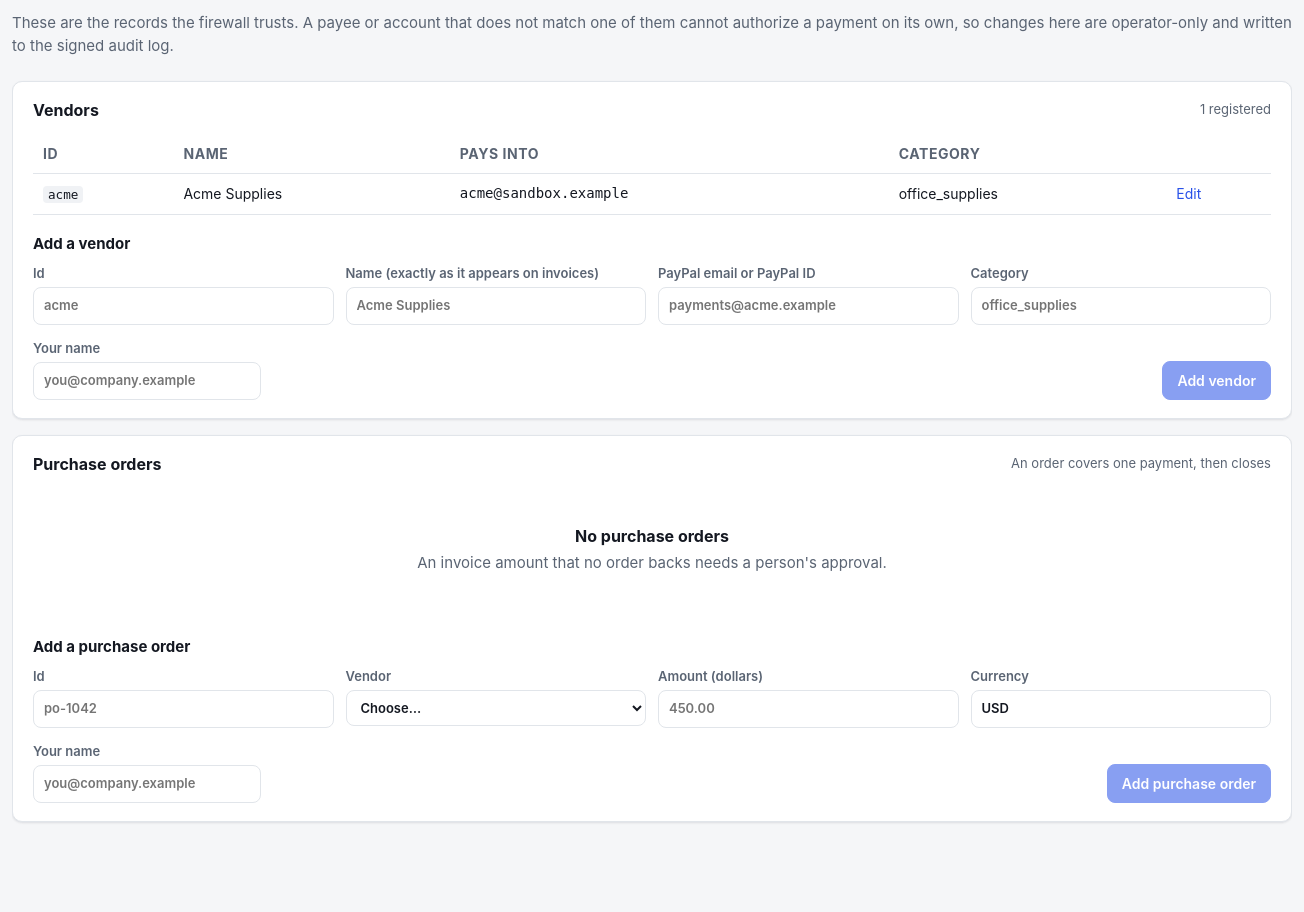
registry: changing where a vendor is paid is a deliberate step › adding a brand-new vendor needs no warning
Expected: the cell "Acme Supplies" is shown, [173, 174, 450, 214]
Type "beta" into the field with placeholder "acme" below "Name (exactly as it appears on invoices)" at (183, 306), box [33, 287, 334, 325]
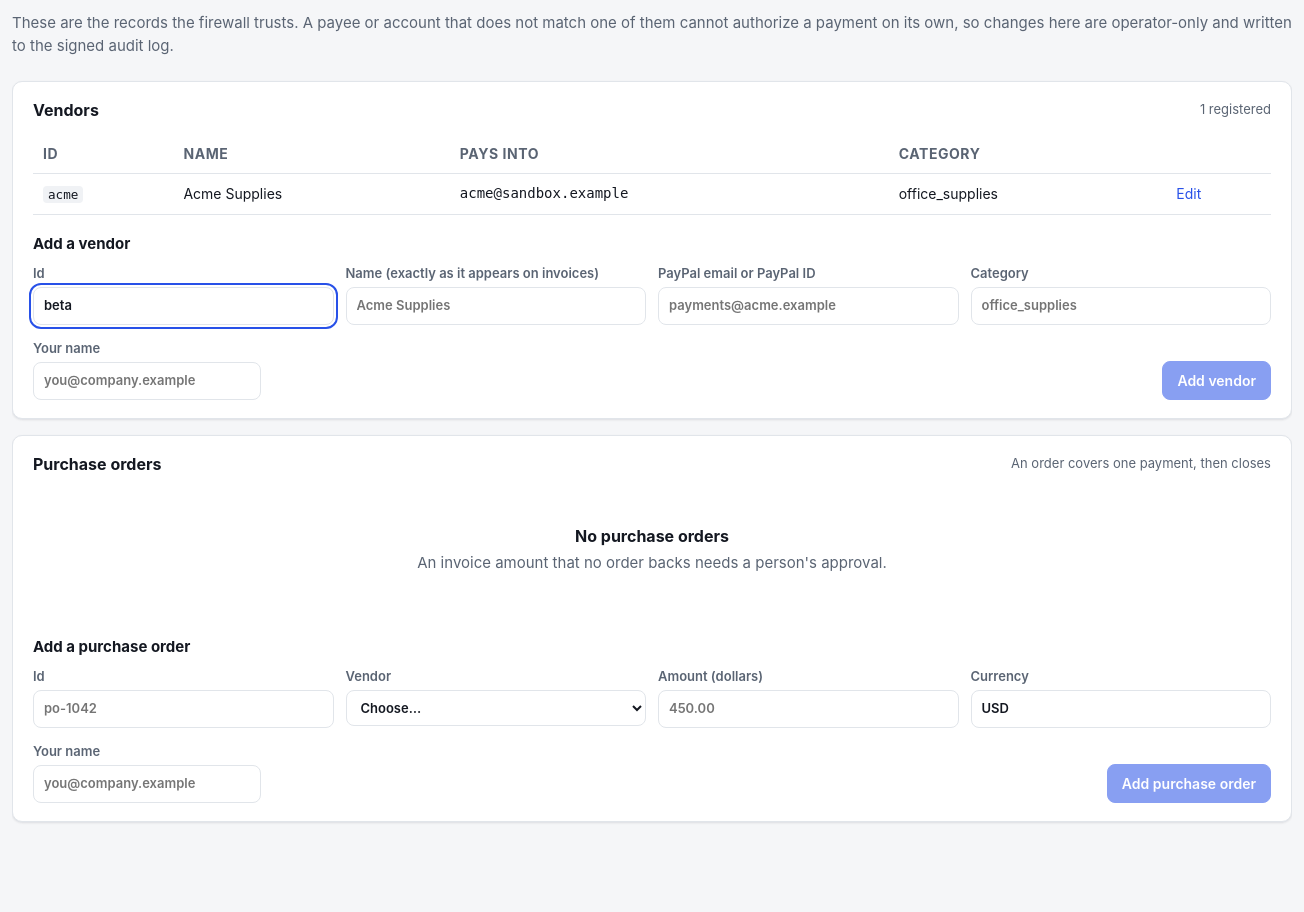
Type "Beta" into the field with placeholder "Acme Supplies" at (496, 306), box [346, 287, 646, 325]
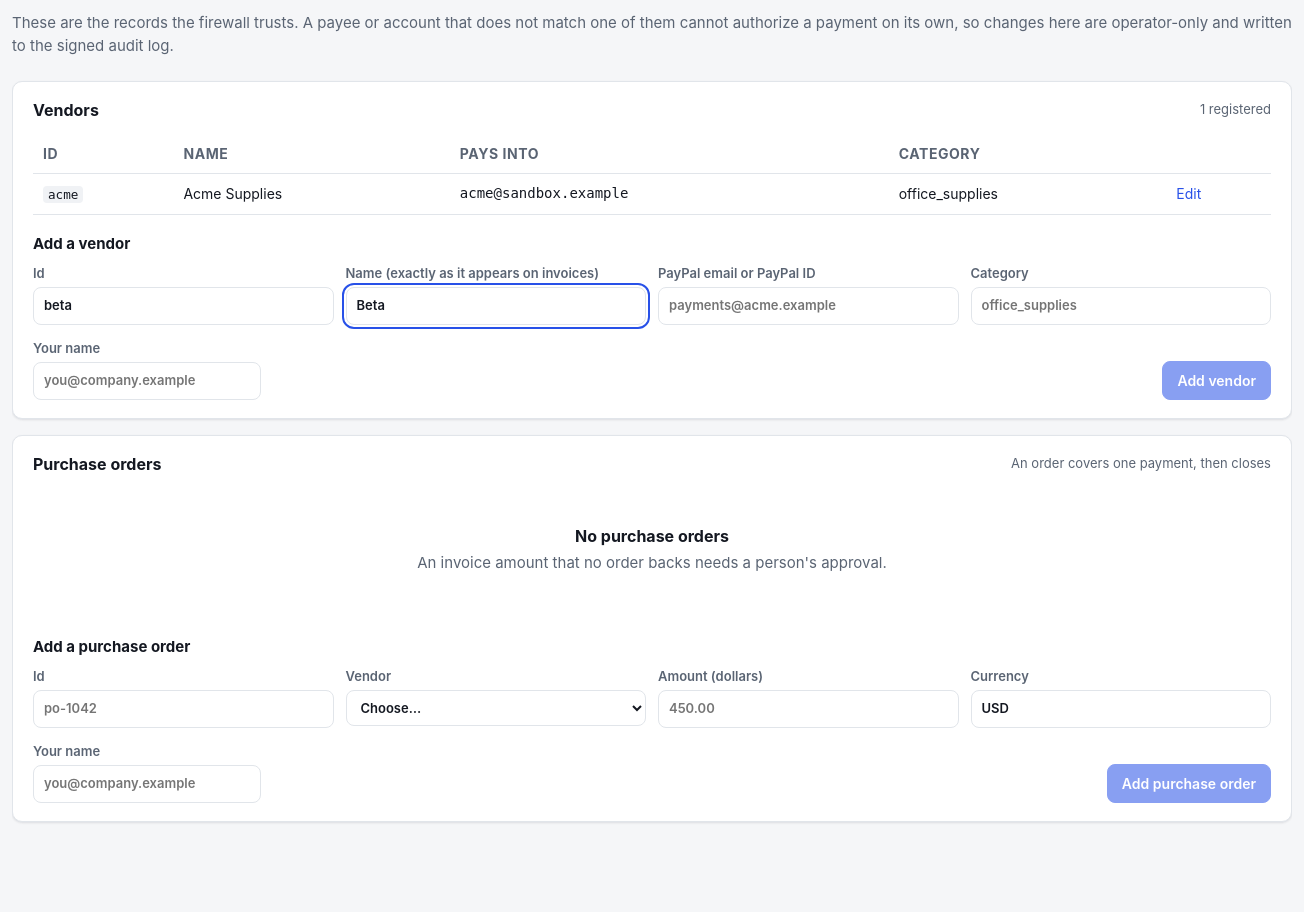
Type "b@x.example" into the field with placeholder "payments@acme.example" at (808, 306), box [658, 287, 958, 325]
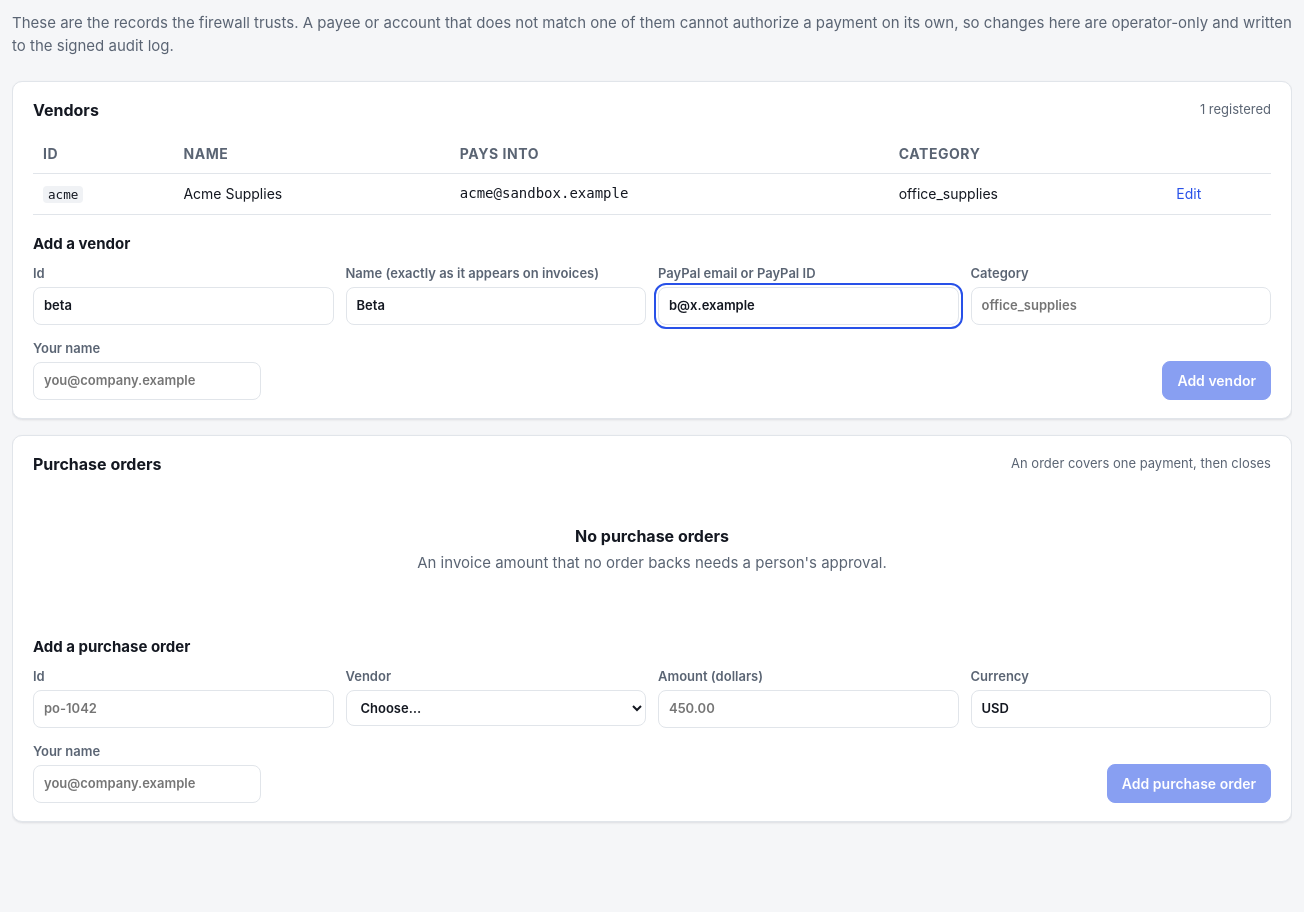
Type "software" into the field with placeholder "office_supplies" at (1121, 306), box [970, 287, 1271, 325]
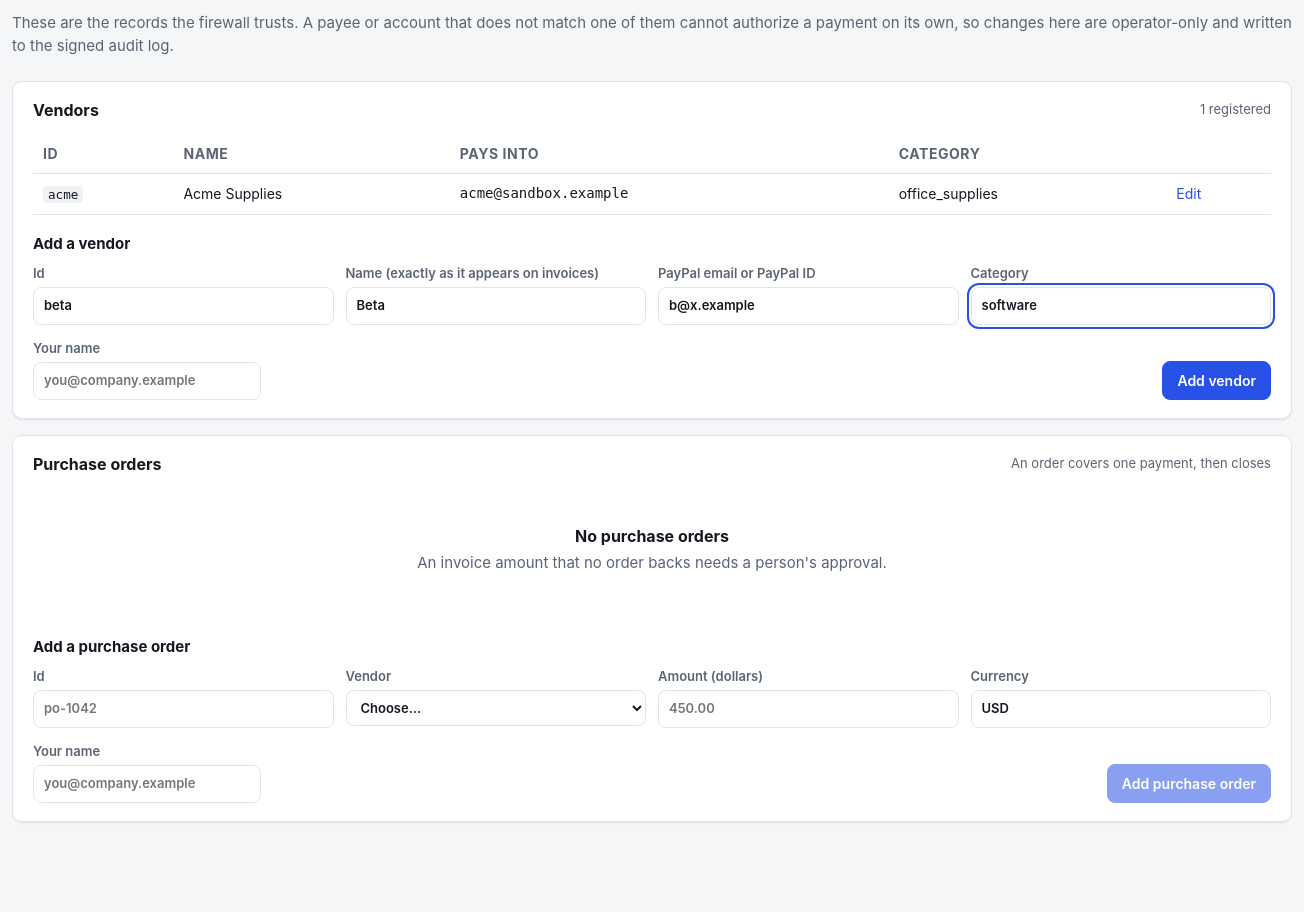
Type "dana" into the field with placeholder "you@company.example" below "Name (exactly as it appears on invoices)" at (147, 381), box [33, 362, 261, 400]
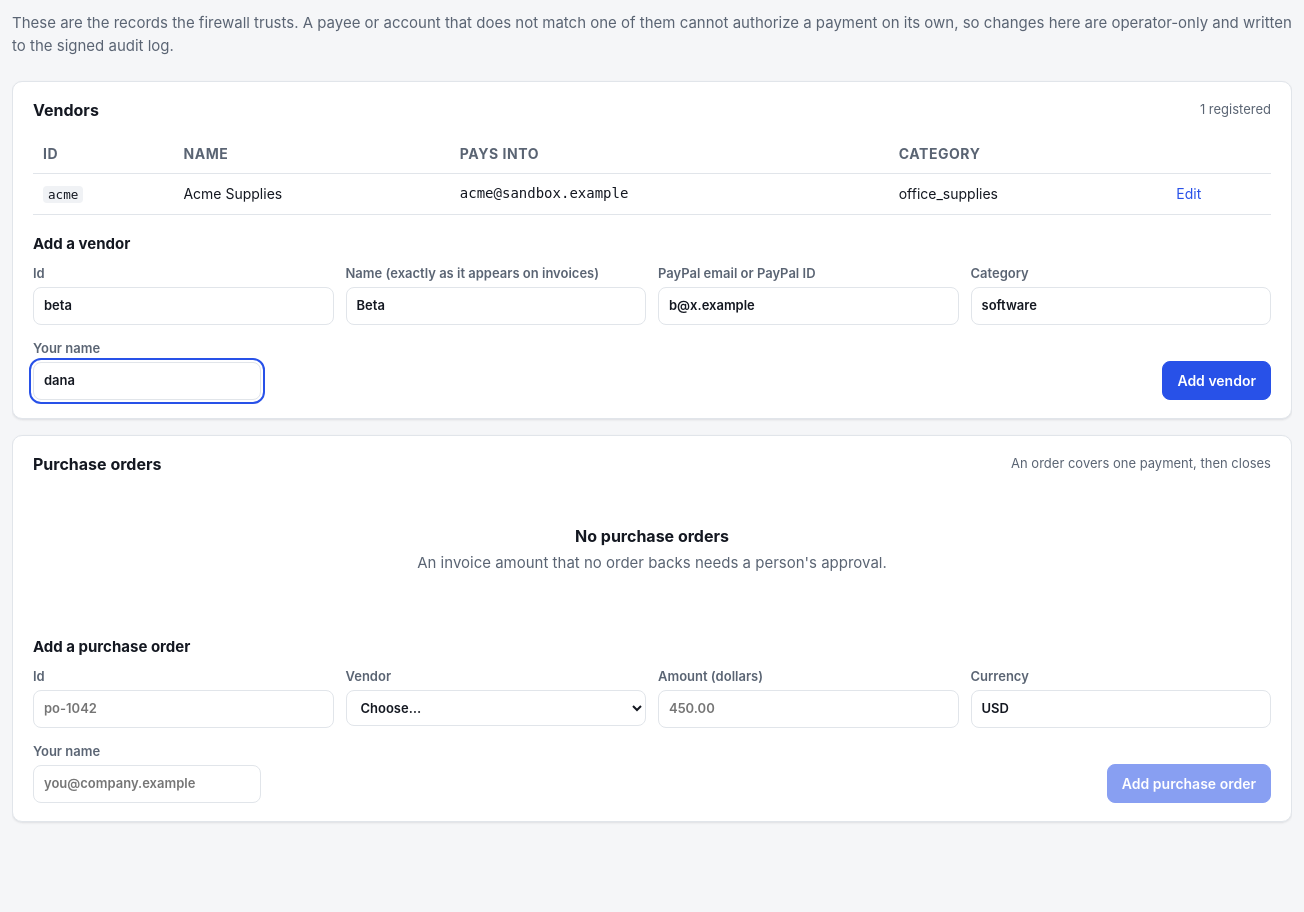
Click the button "Add vendor" at (1217, 380), box [1162, 361, 1271, 400]
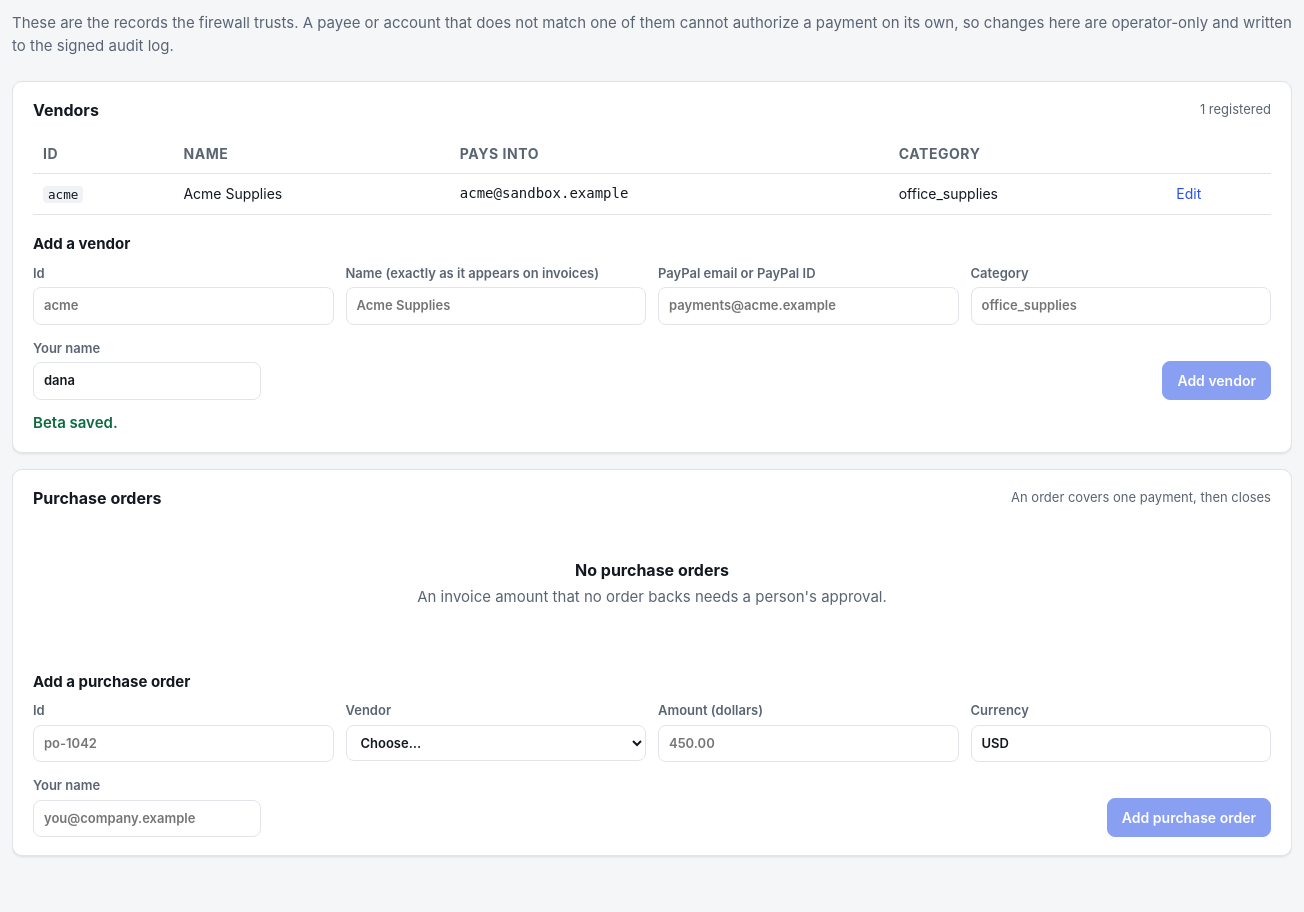
Expected: the text "Beta saved." is shown, [33, 413, 118, 432]
